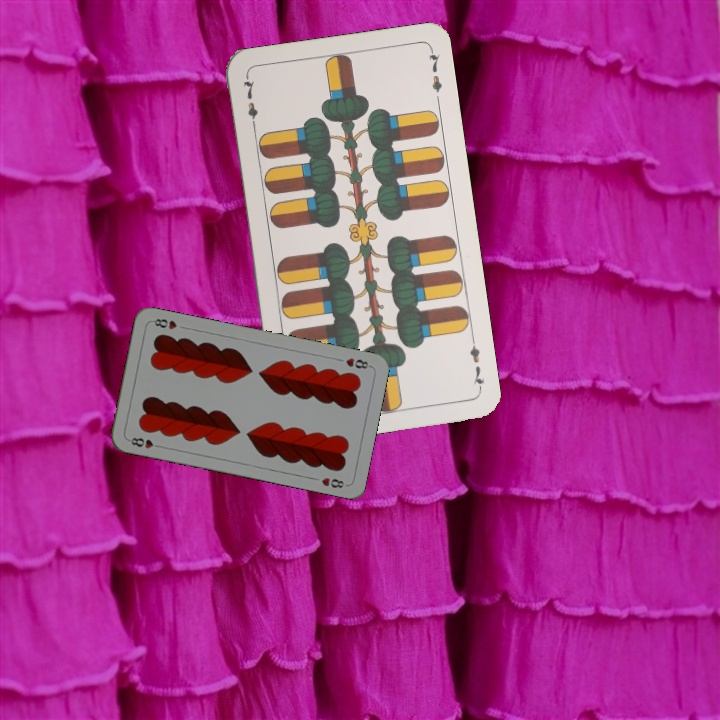E7: (239, 73, 261, 132), (465, 334, 487, 393)
H8: (124, 433, 165, 451), (342, 354, 374, 371)
